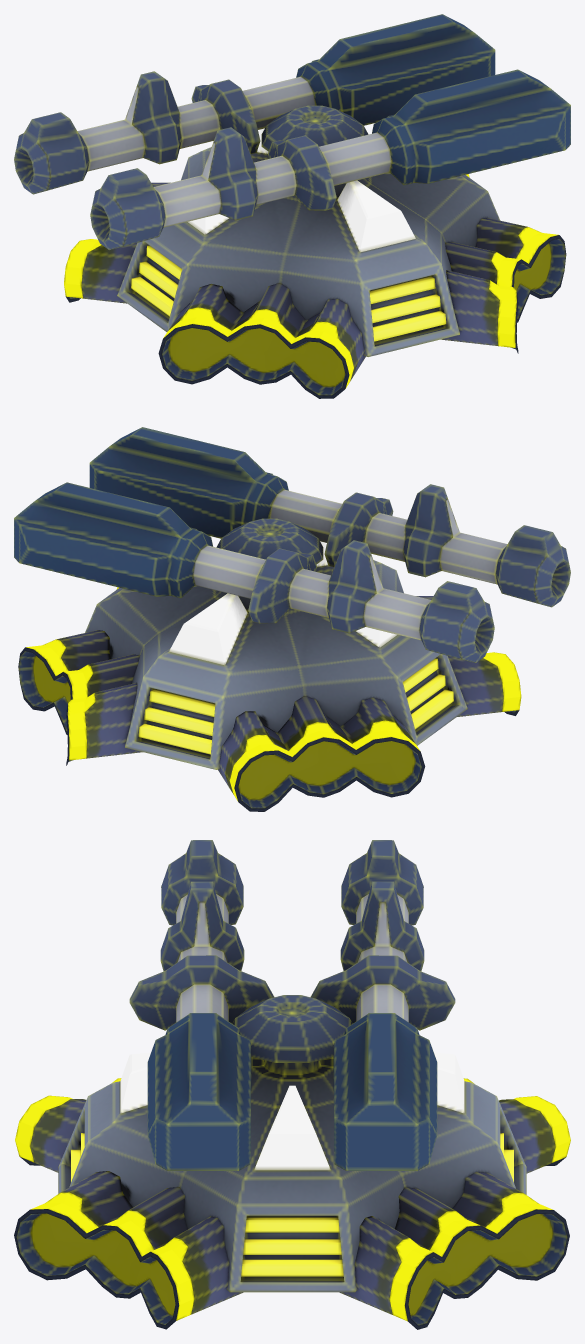
Rendered from lasershipandcannon.fbx.
3 renders of one model, top to bottom at view 1: azimuth 30°, elevation 25°; view 2: azimuth 150°, elevation 25°; view 3: azimuth 270°, elevation 25°, orthographic. The views are drawn at different scales.
Parts seen in each view (by area): view 1: lasership, lasershipcannon; view 2: lasership, lasershipcannon; view 3: lasership, lasershipcannon.
Part boxes in pixels (x1=…): lasership: x1=64, y1=128, x2=566, y2=398; lasershipcannon: x1=14, y1=14, x2=570, y2=250; lasership: x1=18, y1=541, x2=521, y2=811; lasershipcannon: x1=14, y1=427, x2=570, y2=662; lasership: x1=14, y1=995, x2=570, y2=1329; lasershipcannon: x1=129, y1=840, x2=455, y2=1170.
Size of the model in its own units: 75.31 by 35.42 by 67.23.
